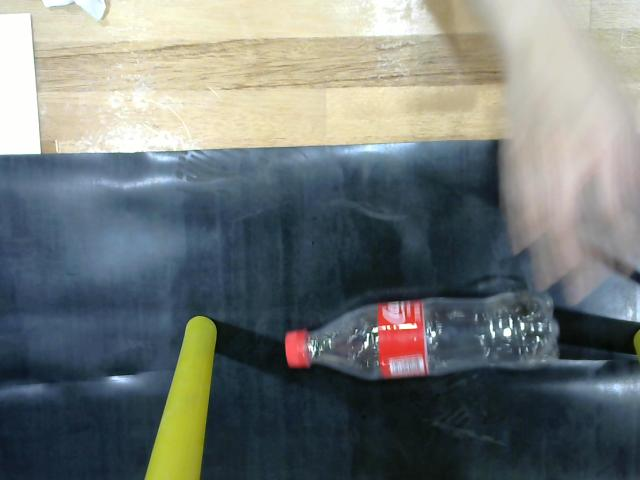bottle: (269, 278, 569, 389)
